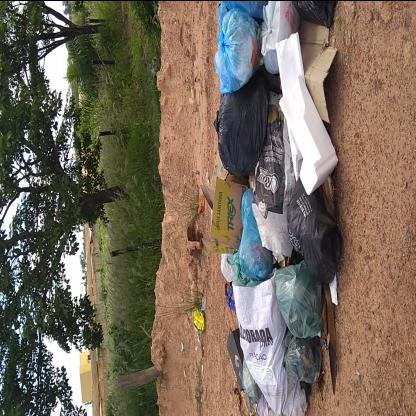lixo: (217, 0, 343, 398)
